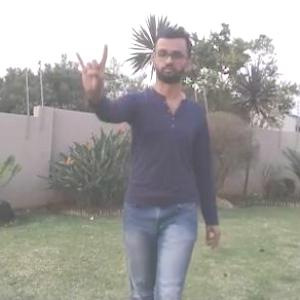takeoff-hand: (69, 42, 118, 95)
